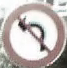Don't turn left: (4, 4, 61, 62)
